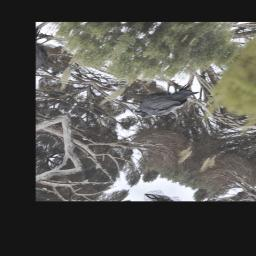Crow: (131, 72, 204, 129)
